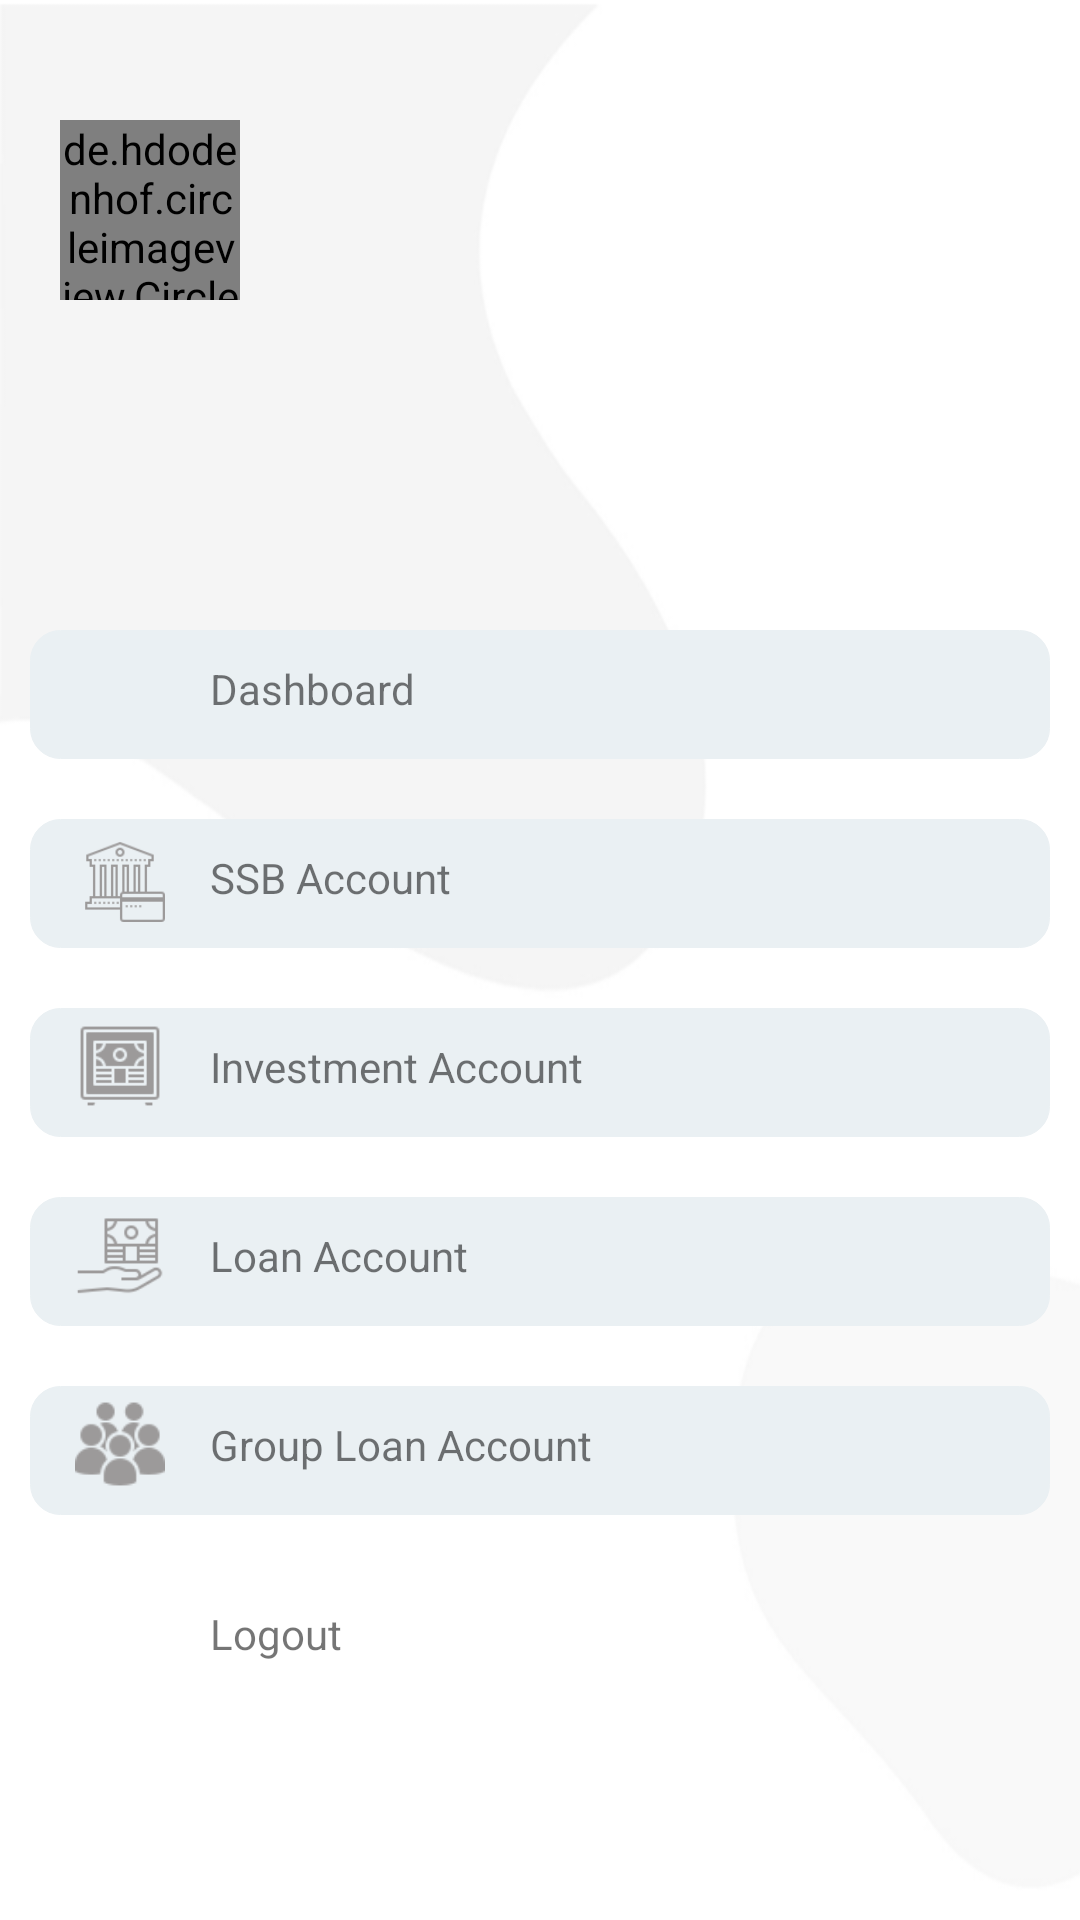

Screen size 1080*1920. Icon name, then its center in pixels as (x,y):
deposit: (120,1066)
